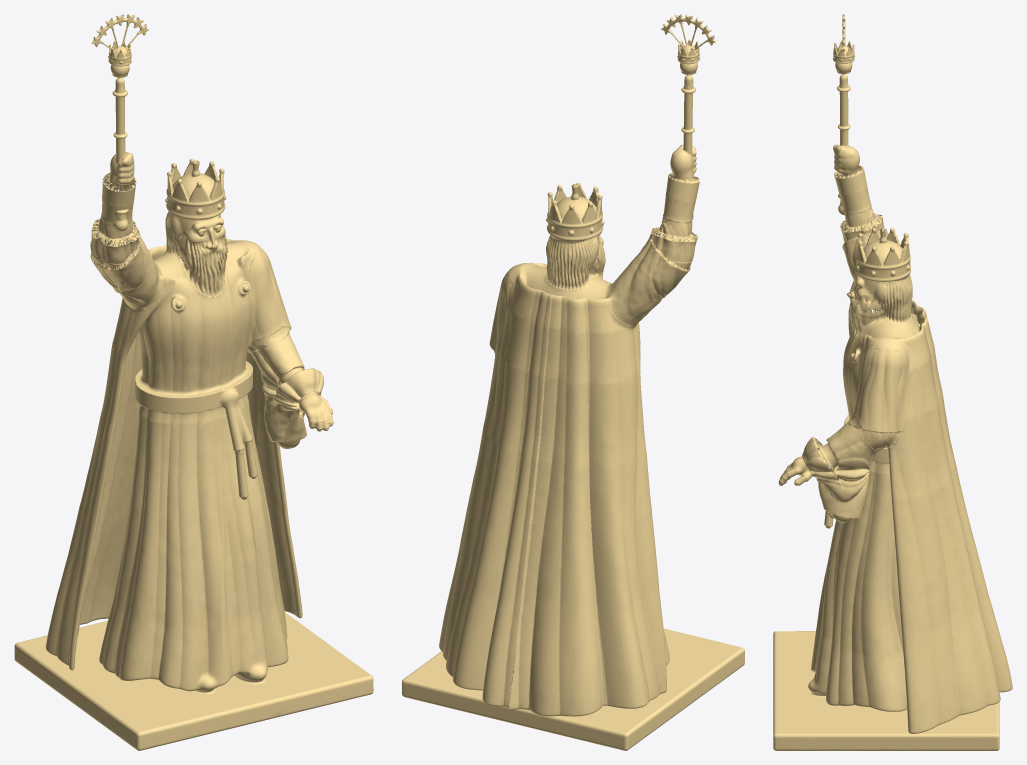
File: statue_lod1.glb
3 renders of one model, left to right at view 1: azimuth 30°, elevation 25°; view 2: azimuth 150°, elevation 25°; view 3: azimuth 270°, elevation 25°, orthographic. The views are drawn at different scales.
Visible parts, largest first — view 1: statue; view 2: statue; view 3: statue.
Boxes of the visible parts, bbox=[...] form: statue: bbox=[14, 14, 373, 750]; statue: bbox=[402, 14, 744, 750]; statue: bbox=[773, 14, 1012, 750].
Bounding box in the file's own units: 4.93 × 13.33 × 4.53.
